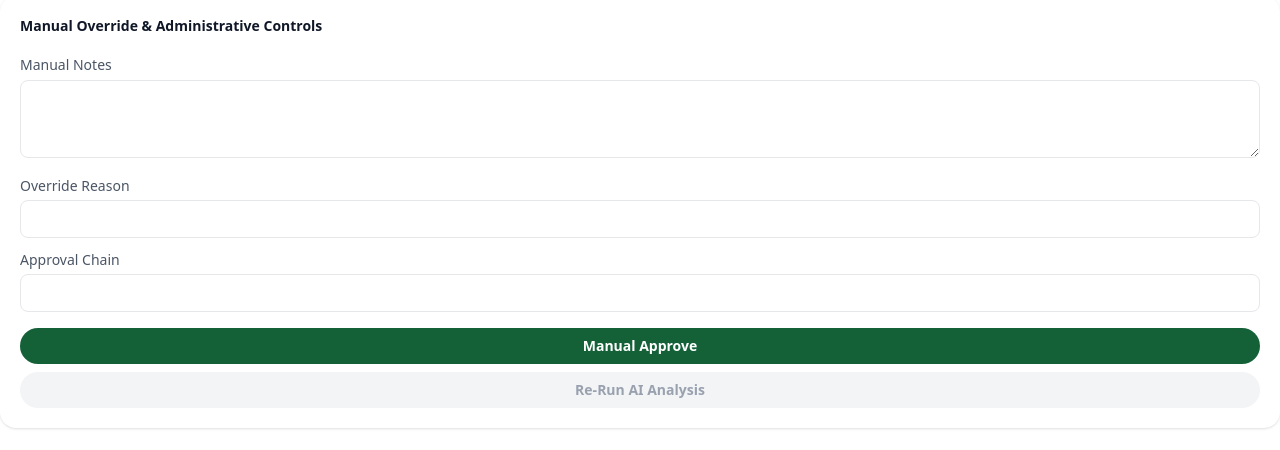
Test: ManualOverridePanel › posts the current field values and the decision when Manual Approve is clicked
The image size is (1280, 450).
Step 1. Type "Looks fine" into the text box → (640, 119), box [20,80,1260,158]
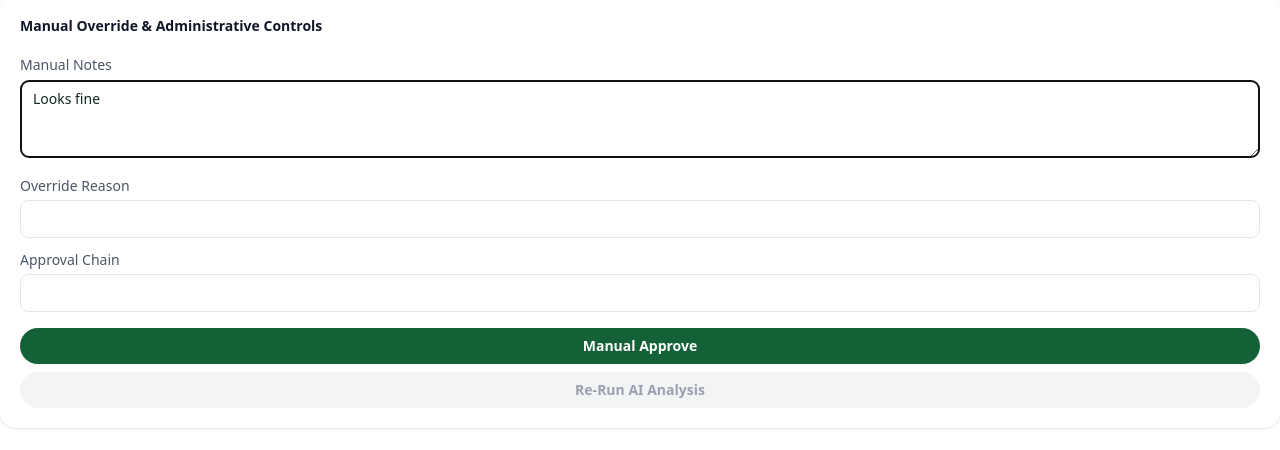
Step 2. Click the button "Manual Approve" → click(640, 346), box [20,328,1260,364]
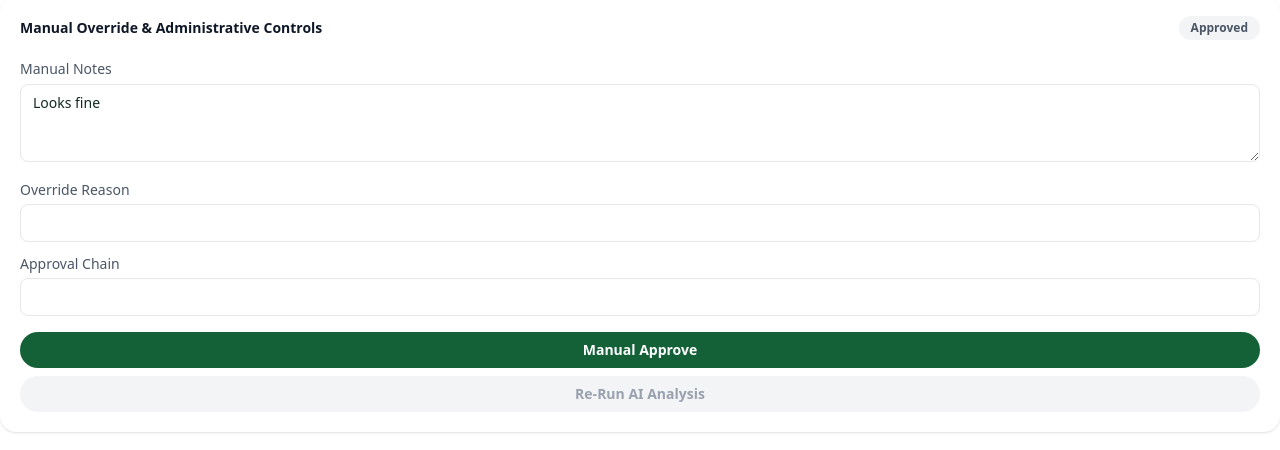
Check: the text "Approved" is shown, box [1179,16,1260,40]
